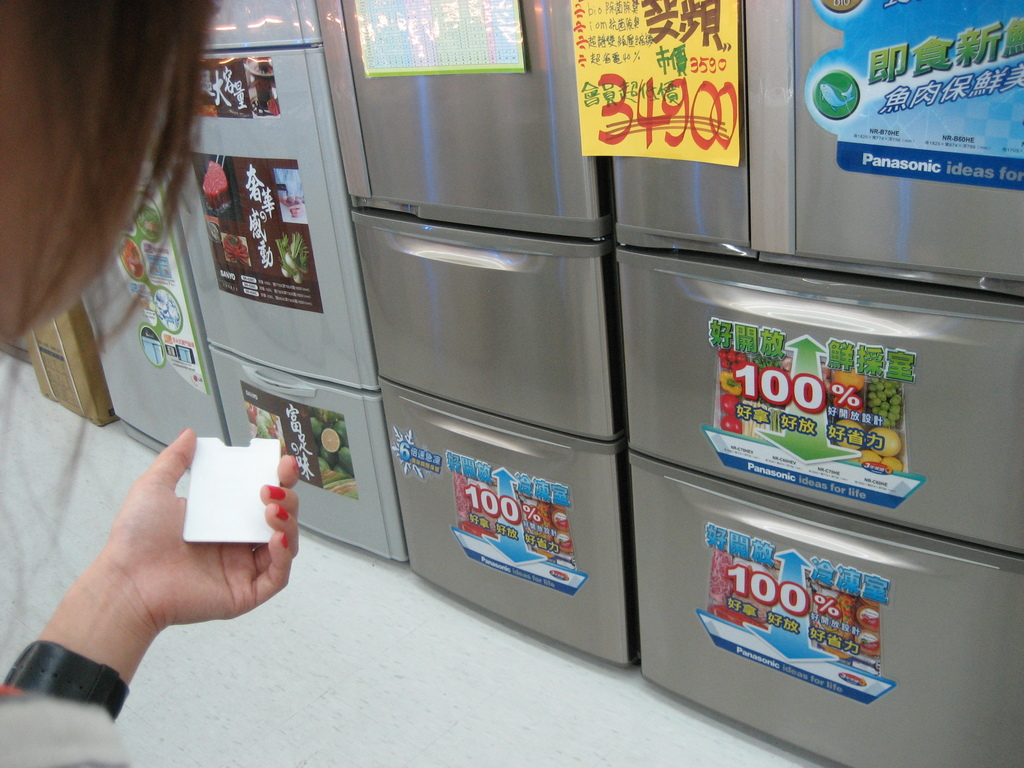handle: (683, 483, 970, 555), (707, 281, 952, 337), (364, 218, 565, 275), (416, 398, 570, 454), (230, 362, 328, 404)
refrigerator door: (632, 465, 1022, 736), (617, 263, 1024, 514), (762, 19, 1024, 259), (323, 4, 596, 222), (188, 76, 370, 369), (403, 416, 622, 628), (386, 251, 612, 438), (218, 375, 381, 548), (625, 33, 742, 238), (102, 243, 215, 452)
